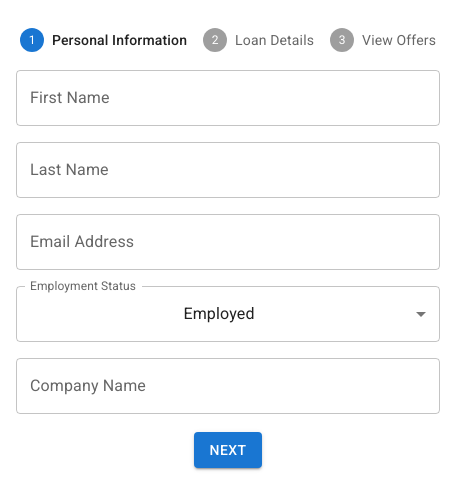
Test: Loan Application › User Details Validation › should validate first name
Step 1. Type "John" into the field named "firstName" → (228, 98), box [16, 70, 440, 126]
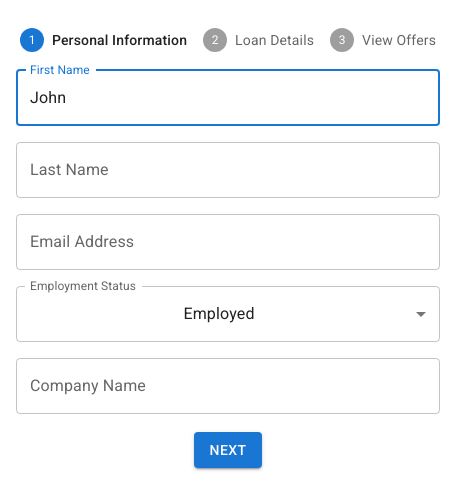
Step 2. Clear the field named "firstName" → (228, 98), box [16, 70, 440, 126]
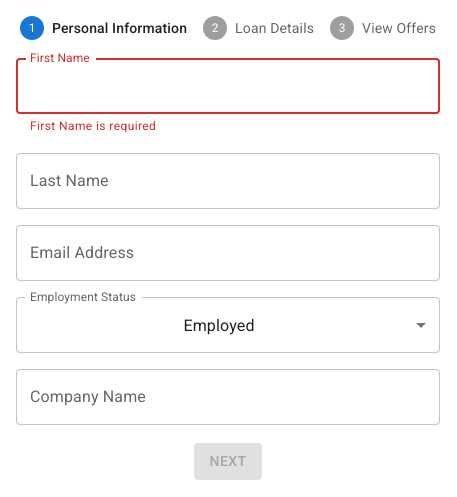
Check: the text "First Name is required" is shown, box [30, 119, 156, 133]
